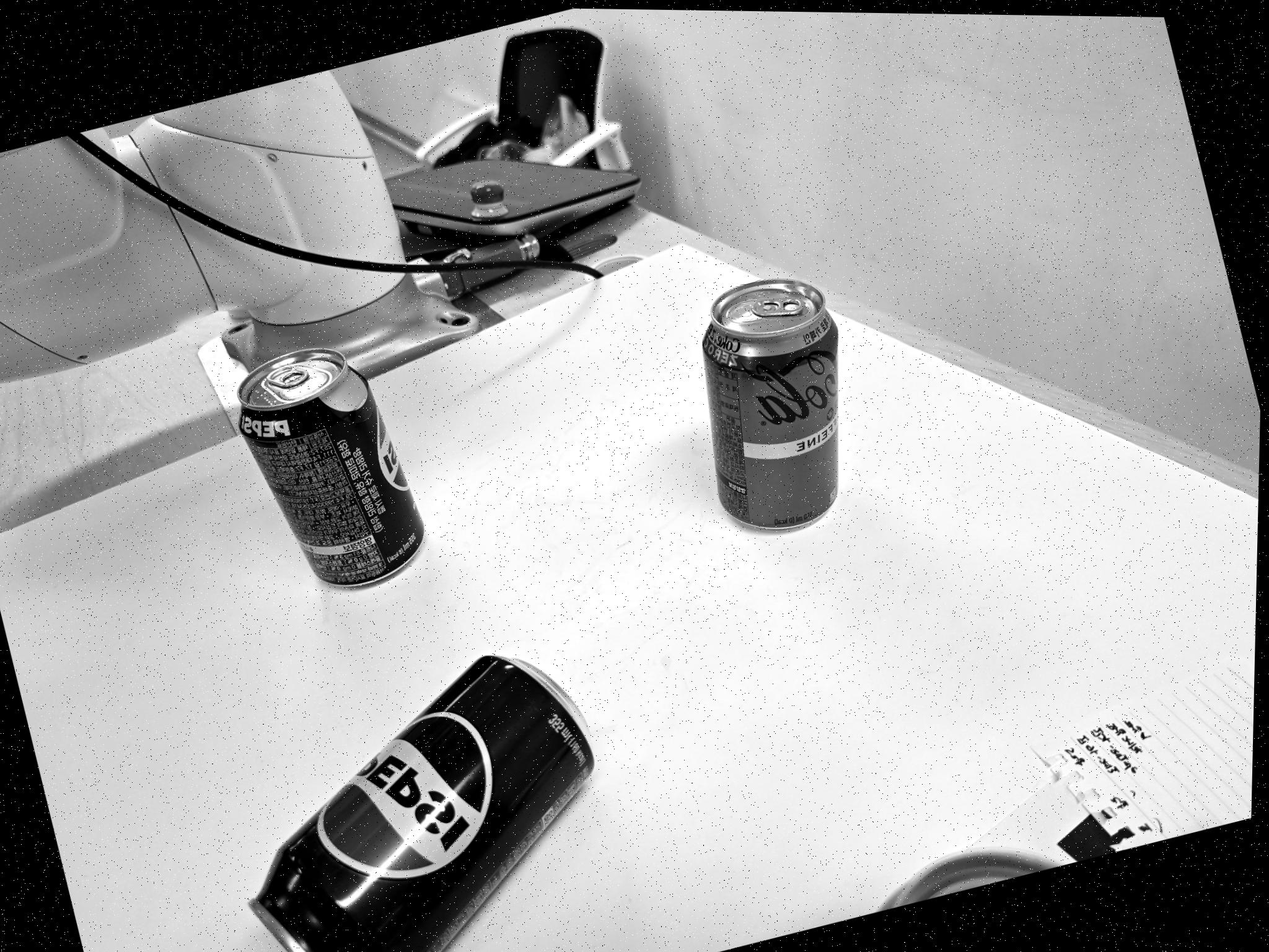can_coke_decaf: (700, 278, 845, 528)
can_pepsi: (248, 651, 598, 952)
can_pepsi_zero: (240, 351, 427, 588)
